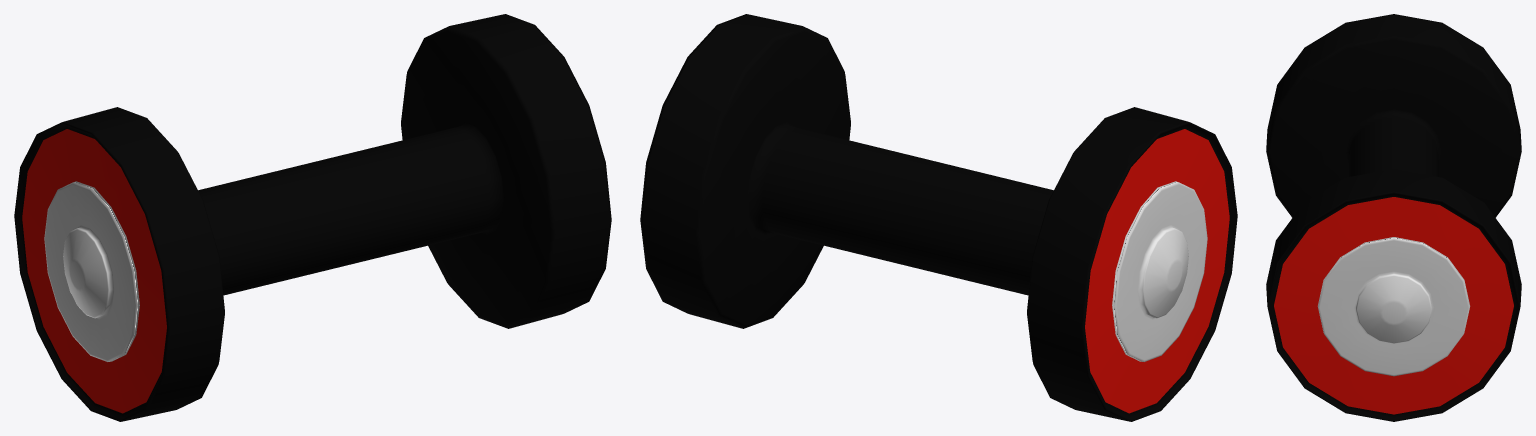
File: RPZ_relief-check.fbx
The picture shows the model from 3 angles, left to right: view 1: azimuth 30°, elevation 25°; view 2: azimuth 150°, elevation 25°; view 3: azimuth 270°, elevation 25°; orthographic projection. The views are drawn at different scales.
Visible parts, largest first — view 1: checkvalve_hp.001_Baked.001_Cylinder.002; view 2: checkvalve_hp.001_Baked.001_Cylinder.002; view 3: checkvalve_hp.001_Baked.001_Cylinder.002.
Boxes of the visible parts, left/top/right/bottom form: checkvalve_hp.001_Baked.001_Cylinder.002: left=14, top=14, right=611, bottom=421; checkvalve_hp.001_Baked.001_Cylinder.002: left=640, top=14, right=1237, bottom=421; checkvalve_hp.001_Baked.001_Cylinder.002: left=1266, top=14, right=1521, bottom=421.
Bounding box in the file's own units: 3.11 × 1.77 × 1.77.
